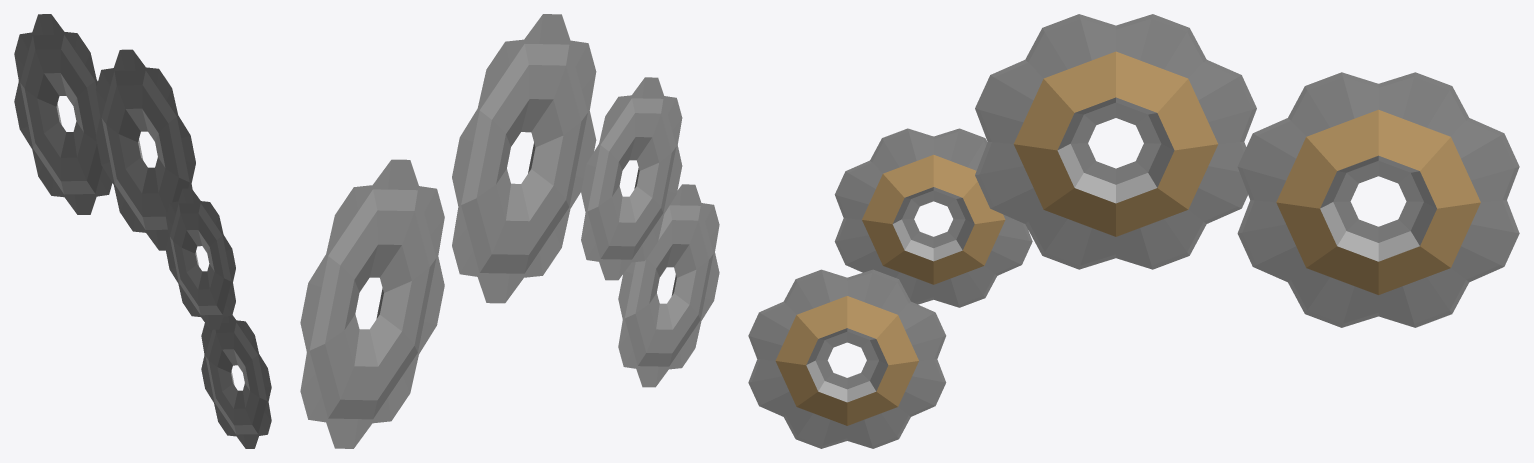
The model's file is prop-gearing.fbx.
The picture shows the model from 3 angles, left to right: view 1: azimuth 30°, elevation 25°; view 2: azimuth 150°, elevation 25°; view 3: azimuth 270°, elevation 25°; orthographic projection. The views are drawn at different scales.
Parts seen in each view (by area): view 1: PropGearing; view 2: PropGearing; view 3: PropGearing.
Boxes of the visible parts, box(x1,y1,x2,y2) form: PropGearing: box(14, 14, 271, 448); PropGearing: box(300, 14, 719, 448); PropGearing: box(748, 14, 1519, 448).
Bounding box in the file's own units: 15.51 × 125 × 199.
